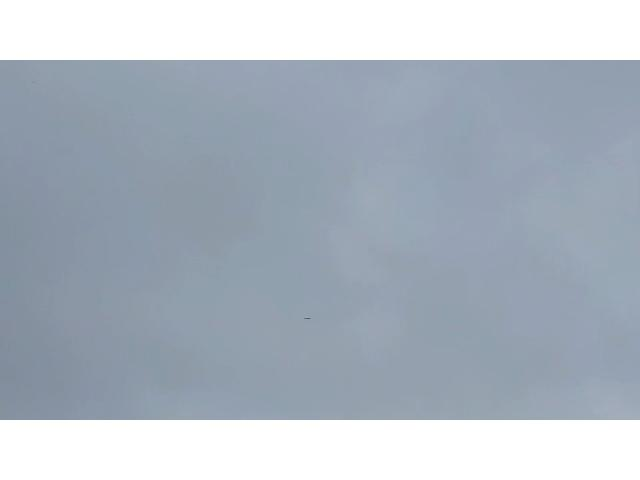Anti-Drone: (304, 316, 312, 322)
